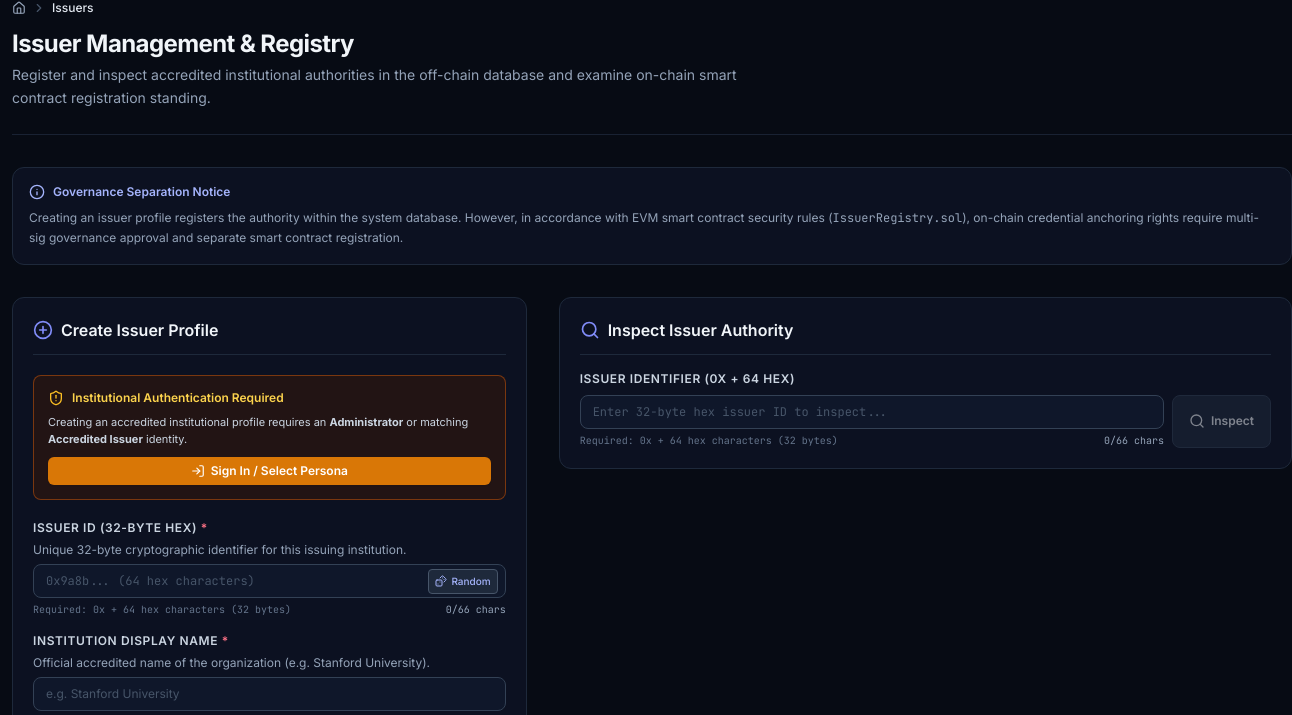
Test: Form Validation & Error Handling › Duplicate Issuer ID Rejection › displays API conflict error when issuer already exists in database
Type "0x1111111111111111111111111111111111111111111111111111111111111111" into the field with placeholder "0x9a8b... (64 hex characters)" at (269,581), box [33, 564, 506, 598]
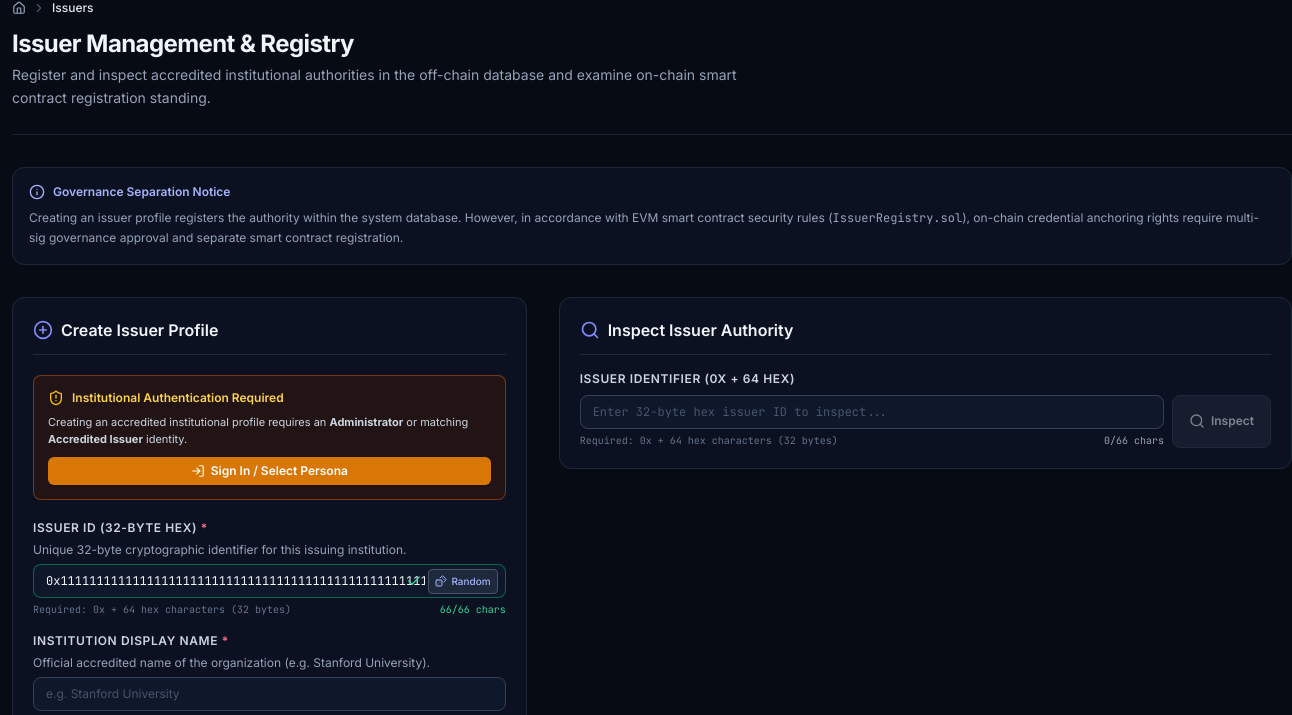
Type "Duplicate College" into the field with placeholder "e.g. Stanford University" at (269,694), box [33, 677, 506, 711]
(page scrolled)
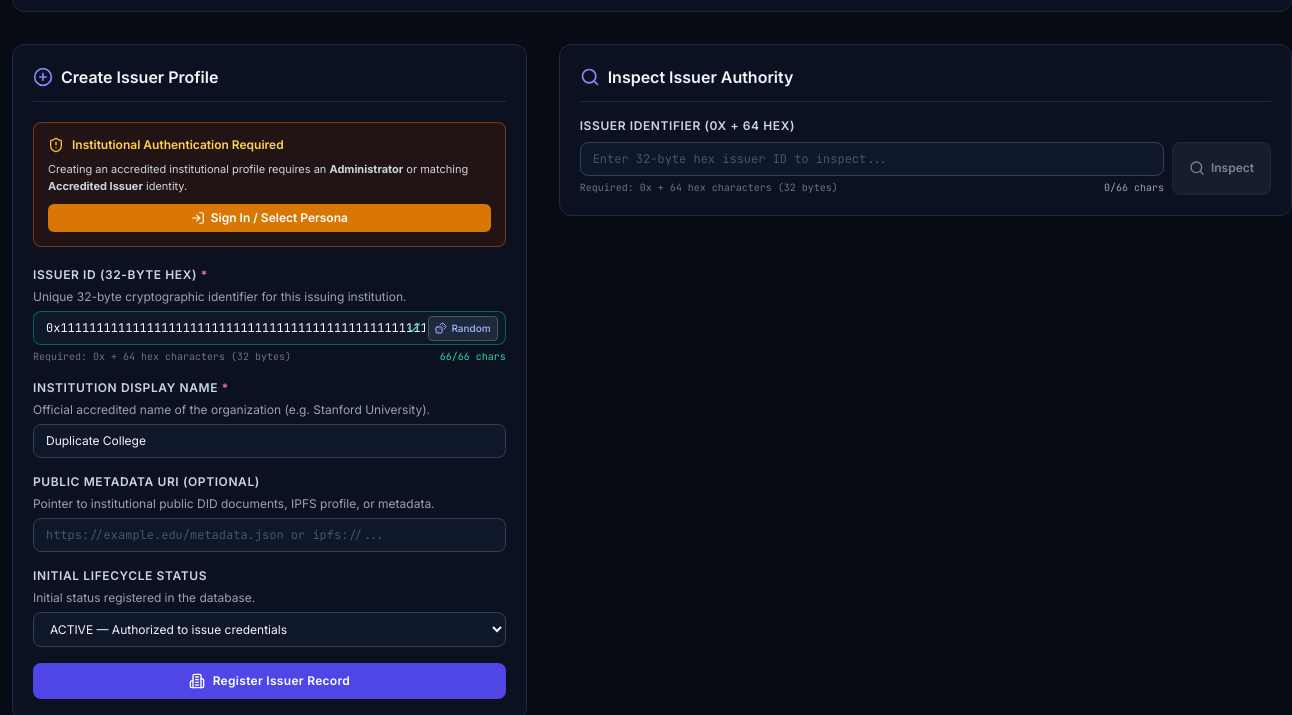
Click the button "Register Issuer Record" at (269,681), box [33, 663, 506, 699]
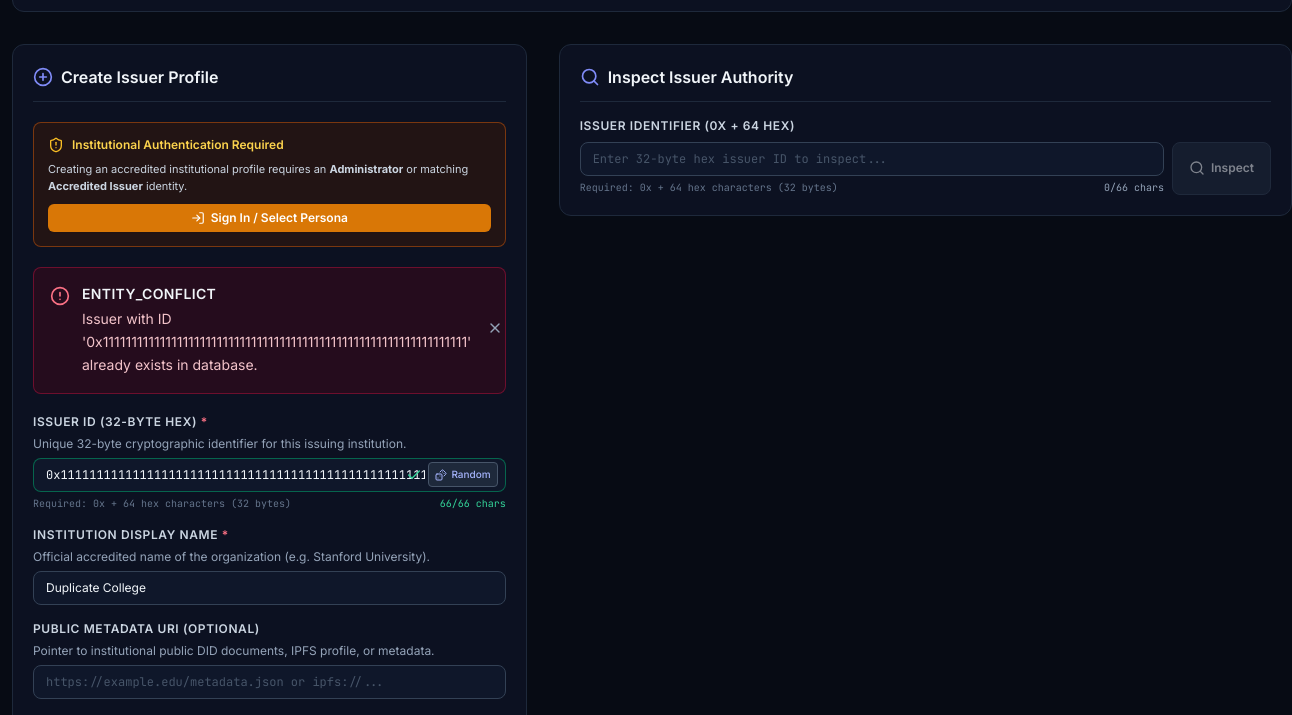
Expected: the text "already exists in database" is shown, [82, 310, 471, 373]
